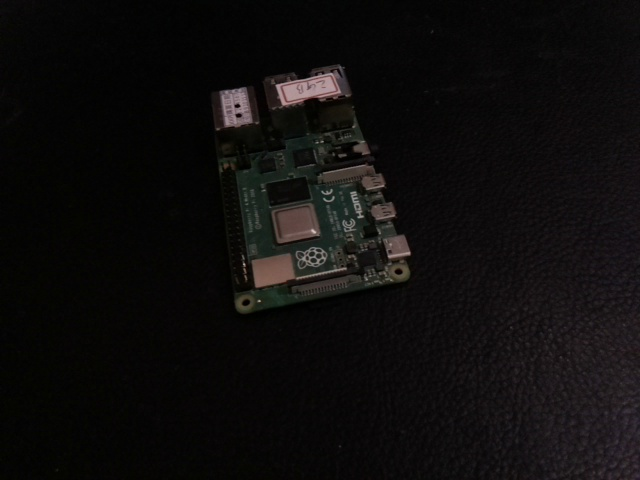pi4: (148, 40, 426, 318)
